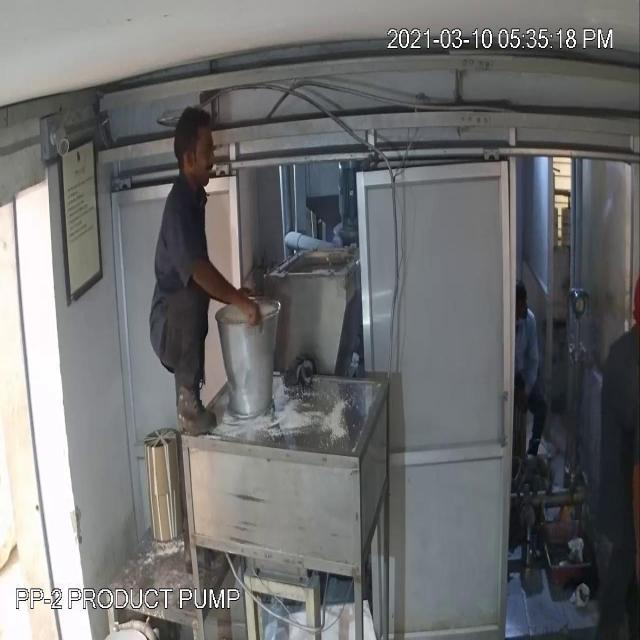No_Gloves: (190, 243, 272, 349)
